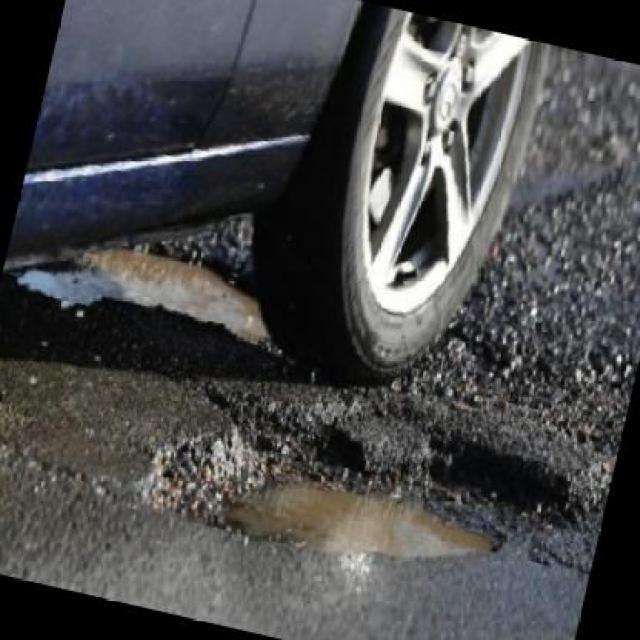pothole1: (131, 363, 591, 617)
